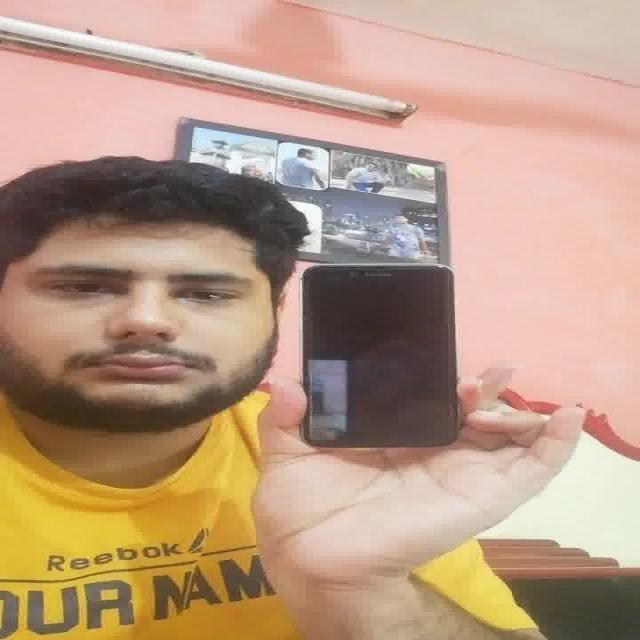Phone: (297, 262, 465, 449)
